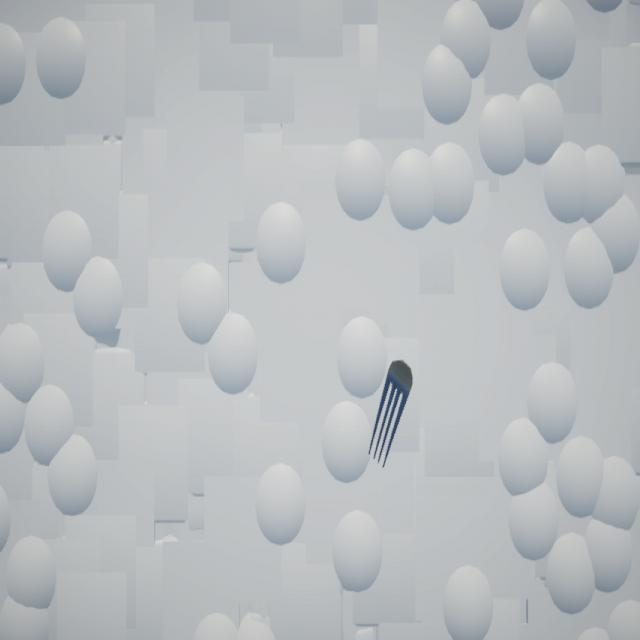top_folk: (370, 361, 415, 470)
